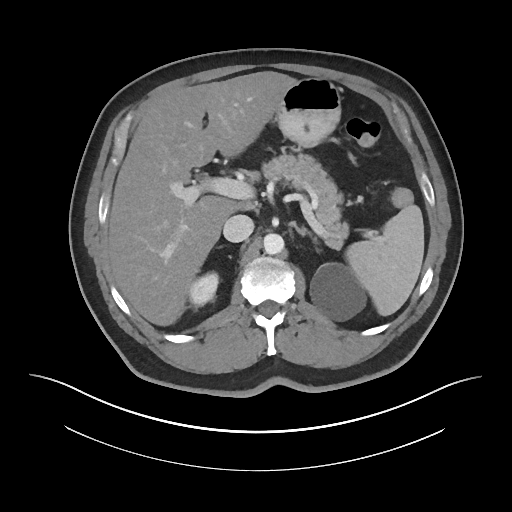Lesion: (303, 257, 370, 325)
